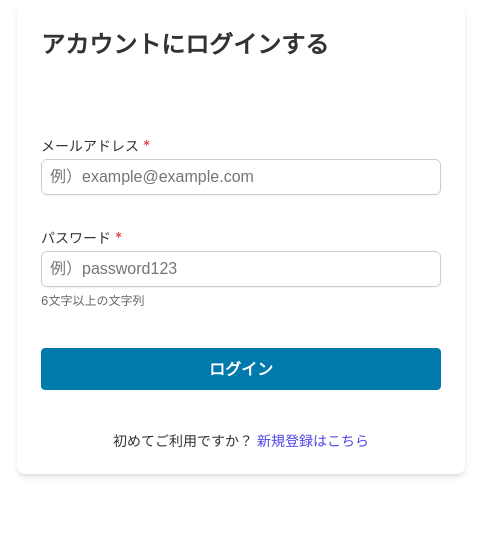
LoginForm › メールアドレスが空の場合に正しいエラーメッセージが表示されること
Click the button "ログイン". click: (241, 369)
box: [41,348,441,390]
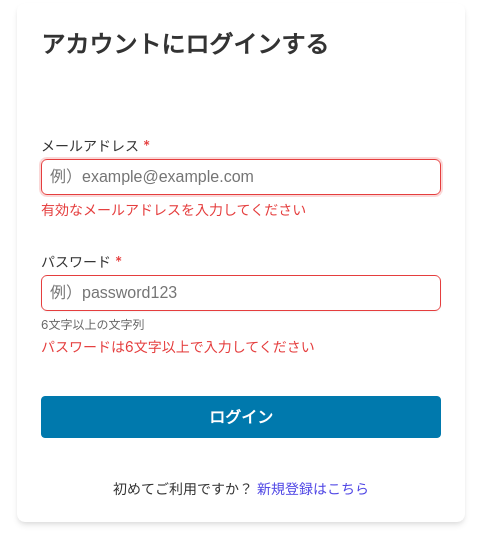
Expected: the text "有効なメールアドレスを入力してください" is shown, [41,201,306,218]
